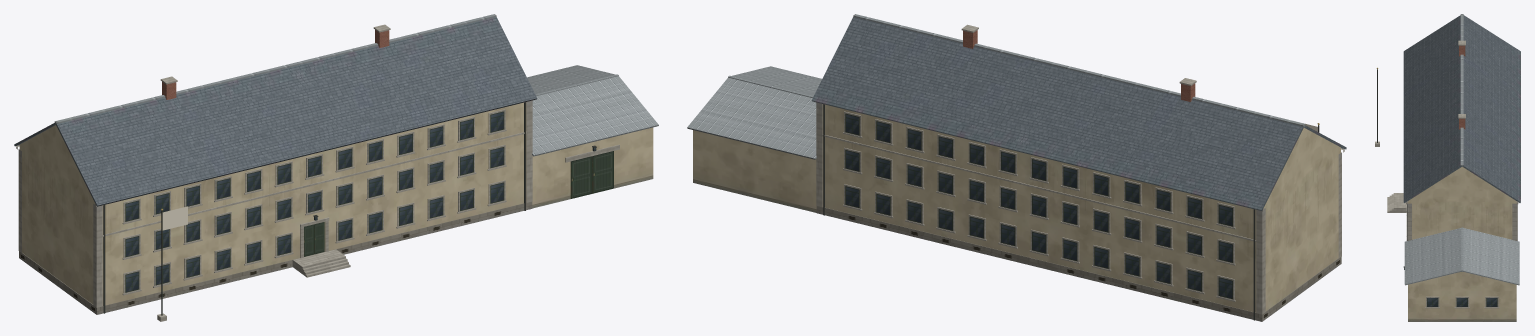
The model's file is barracks.glb.
3 views of the same model, side by side, from view 1: azimuth 30°, elevation 25°; view 2: azimuth 150°, elevation 25°; view 3: azimuth 270°, elevation 25° (orthographic). The views are drawn at different scales.
Parts seen in each view (by area): view 1: murs, toit, remise_toit, remise_murs, perron, remise_porte_droite, remise_porte_gauche, drapeau; view 2: murs, toit, remise_toit, remise_murs; view 3: toit, remise_toit, remise_murs, murs, perron.
Boxes of the visible parts, <box> form: murs: <box>16,100,532,314</box>; toit: <box>14,14,537,206</box>; remise_toit: <box>527,65,658,156</box>; remise_murs: <box>532,127,653,208</box>; perron: <box>292,249,350,277</box>; remise_porte_droite: <box>570,156,592,198</box>; remise_porte_gauche: <box>592,151,613,193</box>; drapeau: <box>162,206,187,230</box>; murs: <box>816,102,1344,321</box>; toit: <box>811,14,1346,210</box>; remise_toit: <box>687,66,821,159</box>; remise_murs: <box>693,130,816,212</box>; toit: <box>1403,14,1520,202</box>; remise_toit: <box>1404,227,1519,285</box>; remise_murs: <box>1403,266,1516,321</box>; murs: <box>1406,200,1518,240</box>; perron: <box>1387,193,1406,212</box>.
Size of the model in its own units: 64.7 by 19.75 by 20.66.
11 materials, 9 textured.
